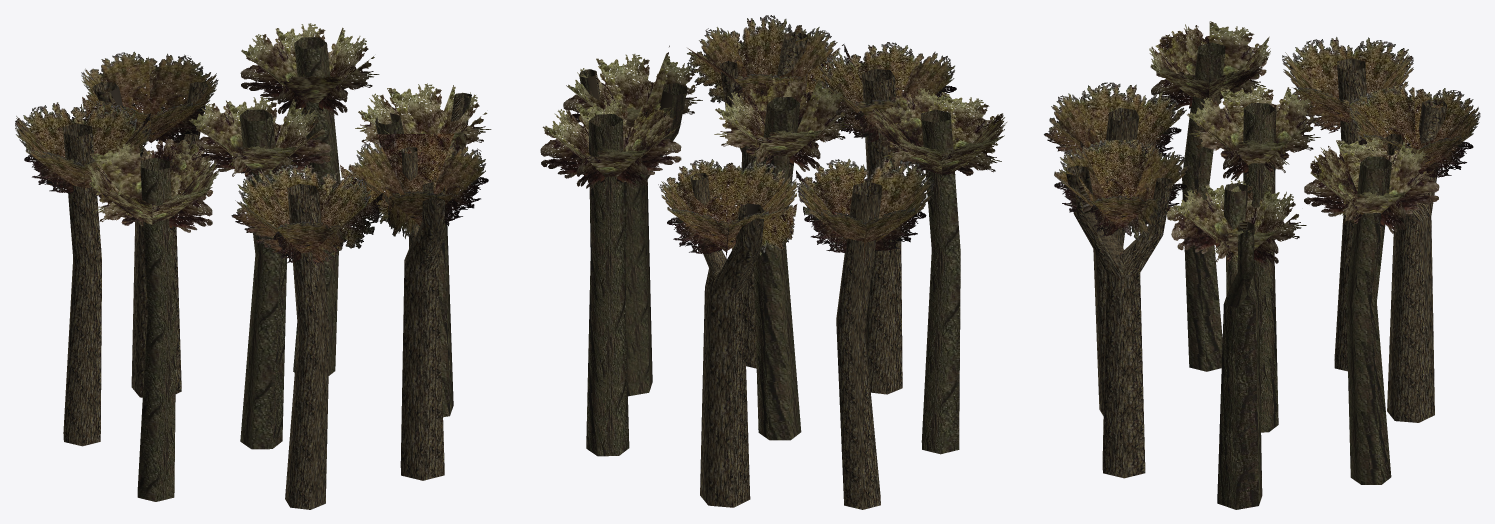
The model's file is OW_FOREST_TREE_V4.glb.
3 views of the same model, side by side, from view 1: azimuth 30°, elevation 25°; view 2: azimuth 150°, elevation 25°; view 3: azimuth 270°, elevation 25° (orthographic). The views are drawn at different scales.
Visible parts, largest first — view 1: Mesh; view 2: Mesh; view 3: Mesh.
Boxes of the visible parts, <box> form: Mesh: <box>15,23,491,509</box>; Mesh: <box>540,15,1006,509</box>; Mesh: <box>1044,21,1480,509</box>.
Bounding box in the file's own units: 24.63 × 18.58 × 23.48.
Materials: 4 (4 with a texture image).
